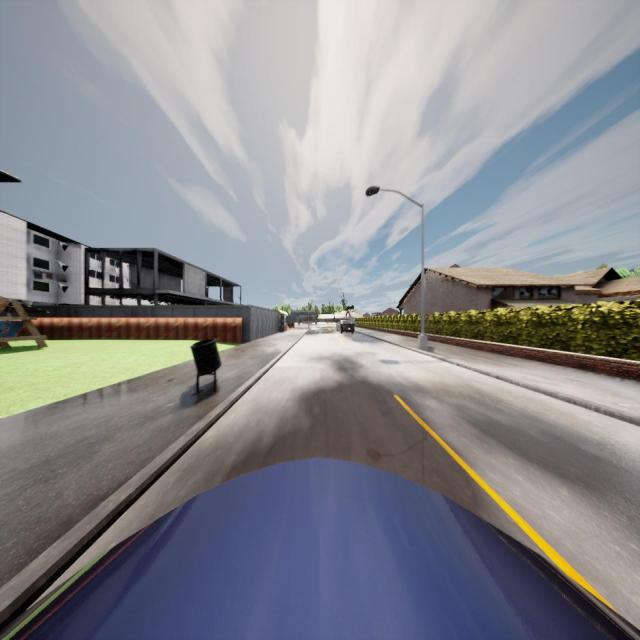Vehicle: (0, 455, 640, 640), (336, 319, 354, 334)
